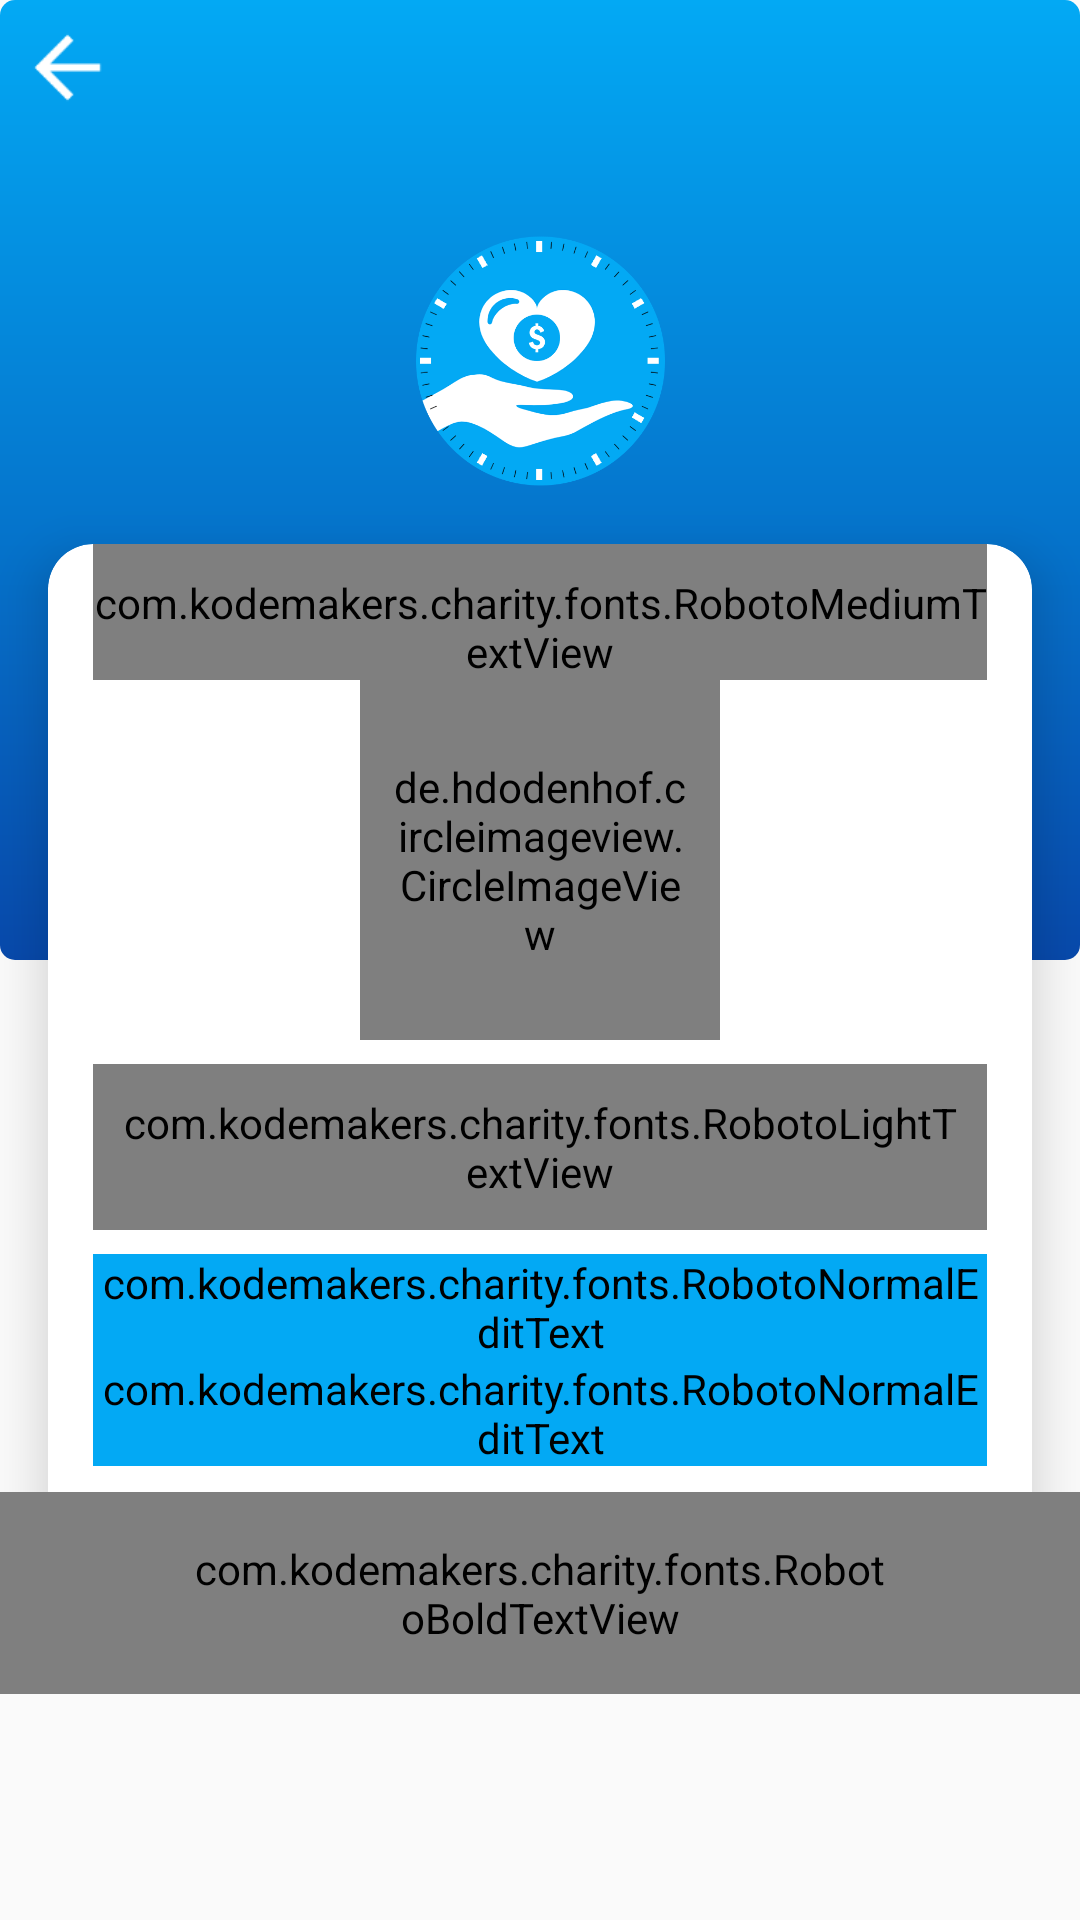

Where to tap for icons on this 1080×1920 app screen, as point (x, y):
arrow back: point (50, 50)
